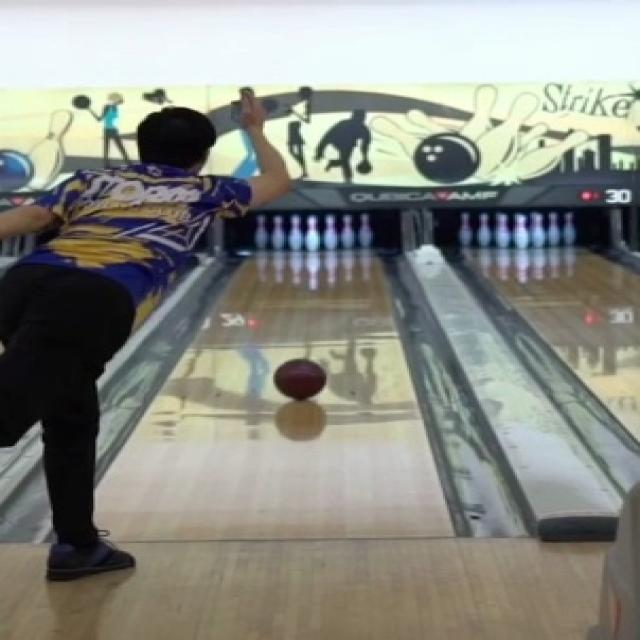alley: (100, 254, 451, 541)
balls: (273, 359, 324, 399)
bottle: (256, 212, 372, 249)
